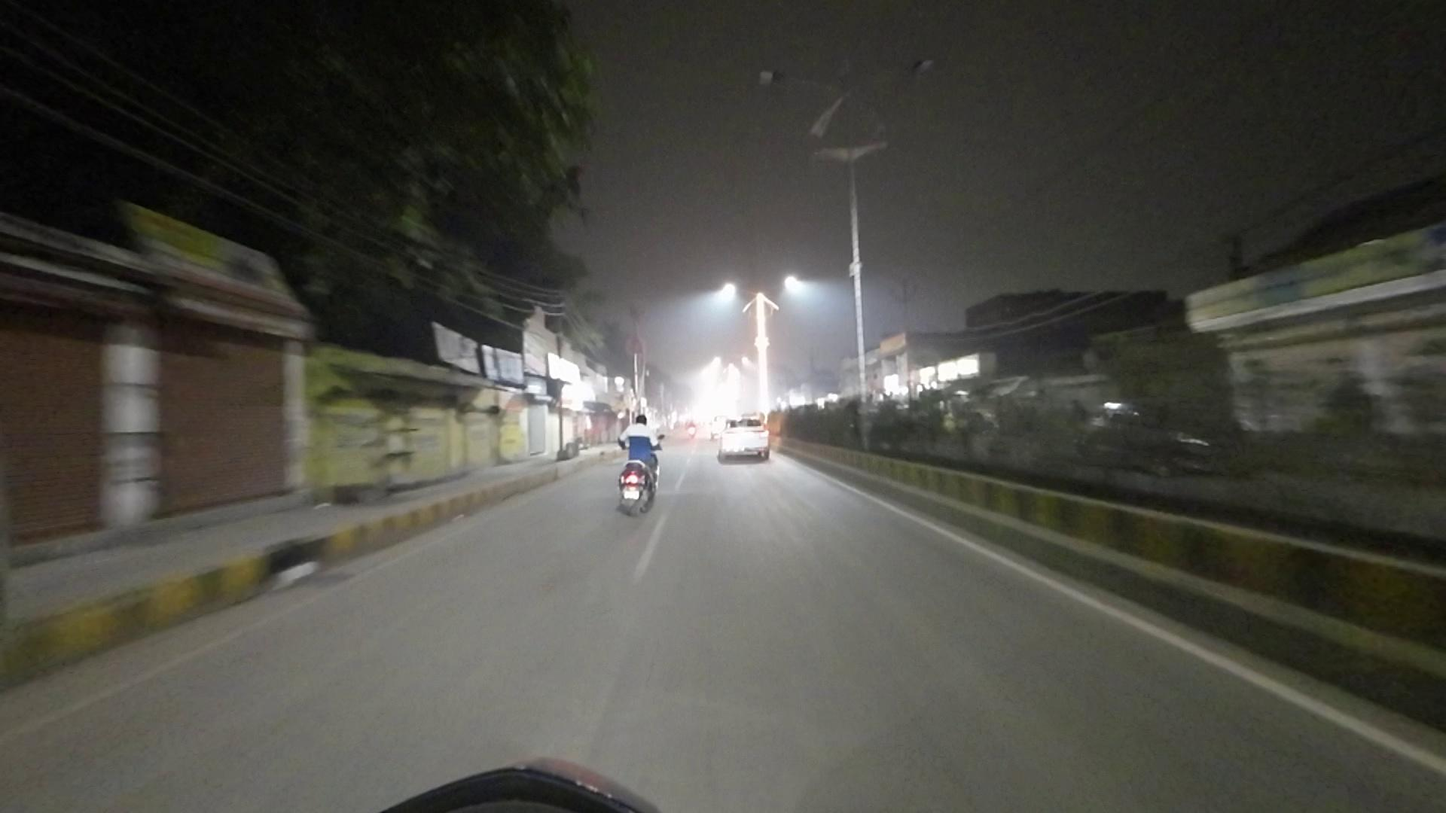streetlight: (758, 63, 843, 98), (865, 53, 937, 80)
